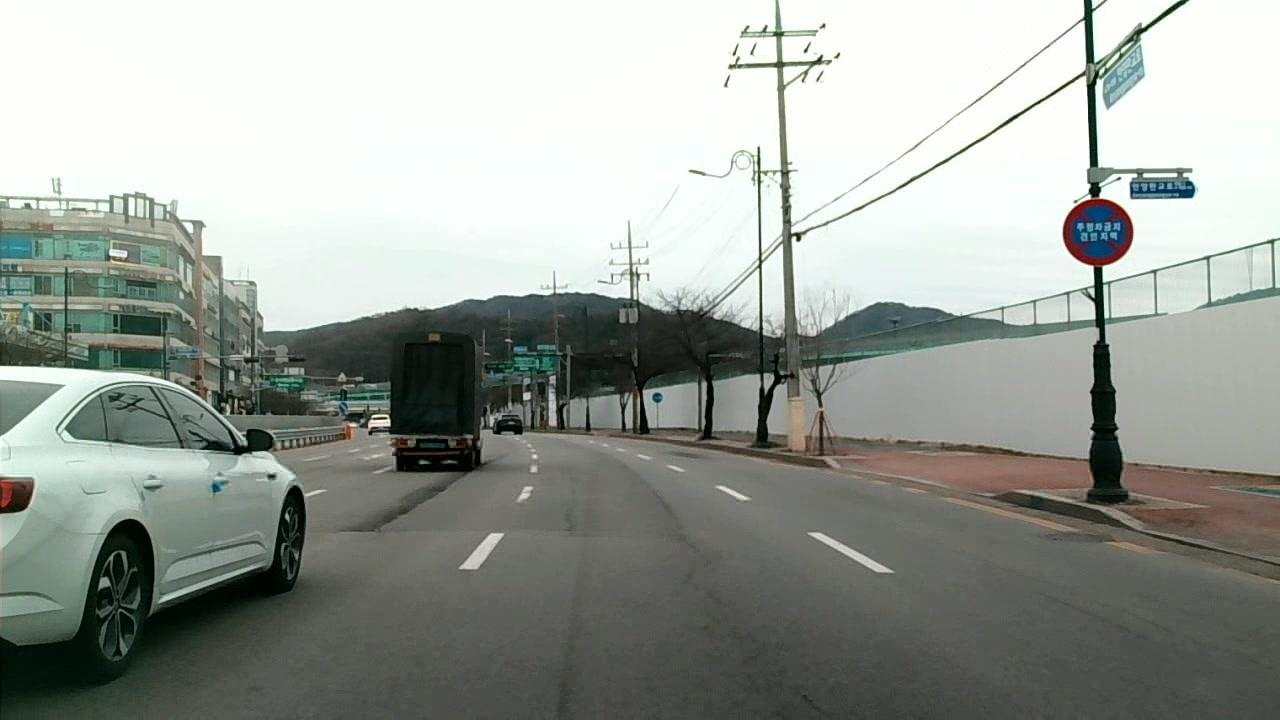vcrack: (349, 469, 471, 532)
